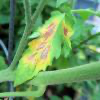Tomato Early blight leaf: (14, 6, 72, 87)
